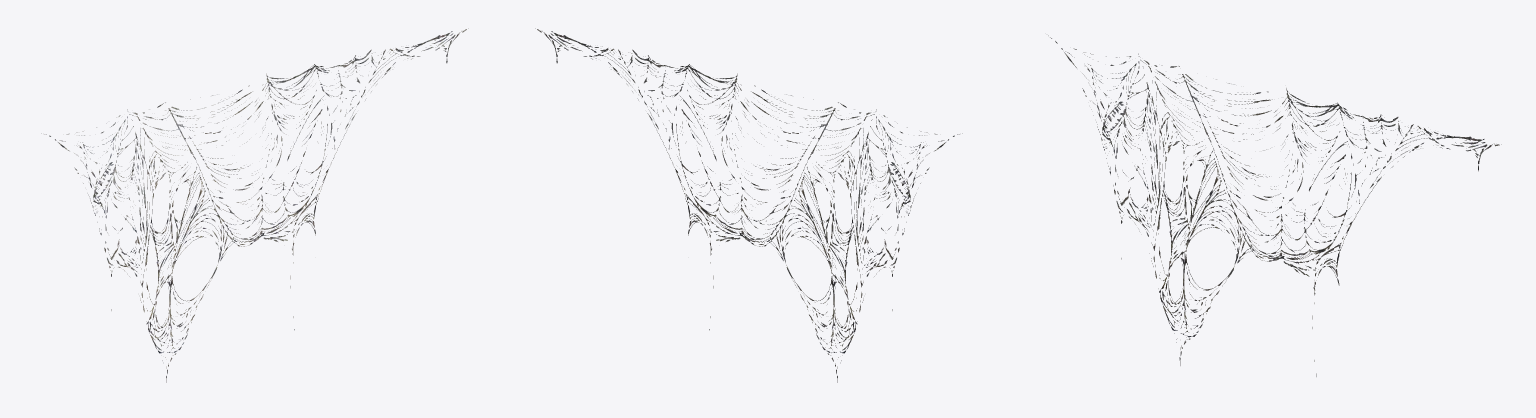
Rendered from cobweb-03.fbx.
3 renders of one model, left to right at view 1: azimuth 30°, elevation 25°; view 2: azimuth 150°, elevation 25°; view 3: azimuth 330°, elevation 25°, orthographic. The views are drawn at different scales.
Visible parts, largest first — view 1: Plane.009; view 2: Plane.009; view 3: Plane.009.
Part boxes in pixels (<box>): Plane.009: <box>41,28,468,382</box>; Plane.009: <box>535,28,962,382</box>; Plane.009: <box>1048,35,1501,376</box>.
Bounding box in the file's own units: 3.5 × 2.22 × 5.3e-07.
